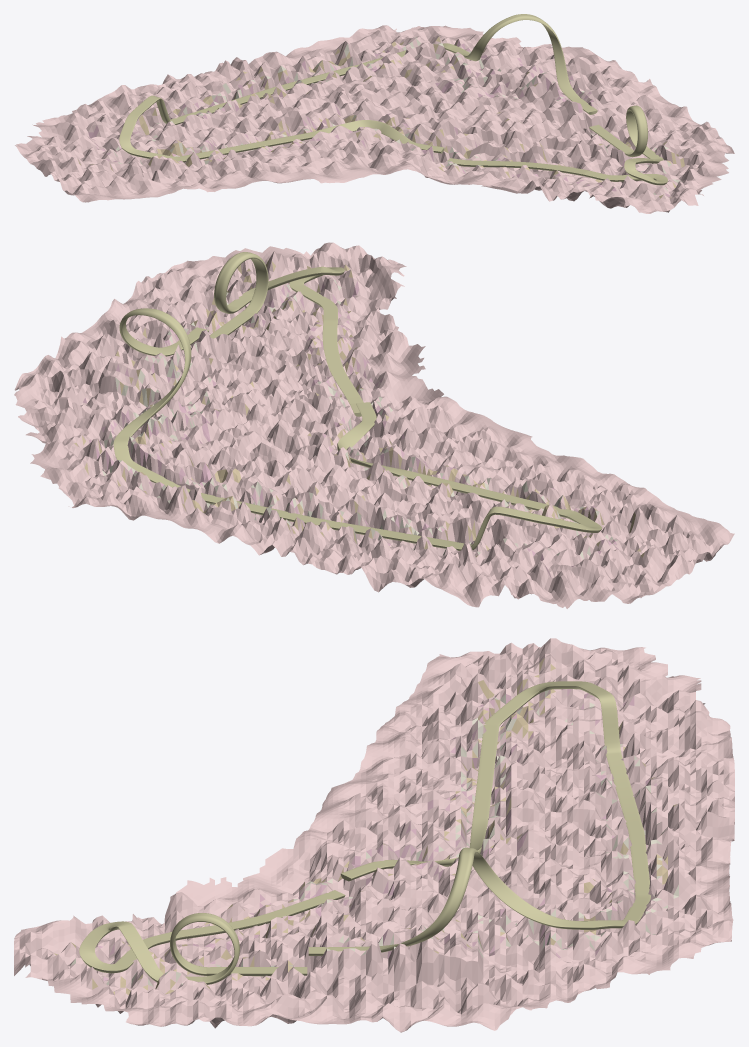
File: track with material - textured.fbx
3 views of the same model, one above another, from view 1: azimuth 30°, elevation 25°; view 2: azimuth 150°, elevation 25°; view 3: azimuth 270°, elevation 25° (orthographic). The views are drawn at different scales.
Parts seen in each view (by area): view 1: square_greed:Mesh, pathOBJ:Loft005; view 2: square_greed:Mesh, pathOBJ:Loft005; view 3: square_greed:Mesh, pathOBJ:Loft005.
Part boxes in pixels (box(x1,y1,x2,y2)): square_greed:Mesh: box(15, 25, 734, 213); pathOBJ:Loft005: box(119, 14, 667, 185); square_greed:Mesh: box(14, 242, 734, 608); pathOBJ:Loft005: box(113, 252, 602, 550); square_greed:Mesh: box(14, 638, 734, 1032); pathOBJ:Loft005: box(79, 681, 650, 984).
Bounding box in the file's own units: 160 × 28.39 × 130.
